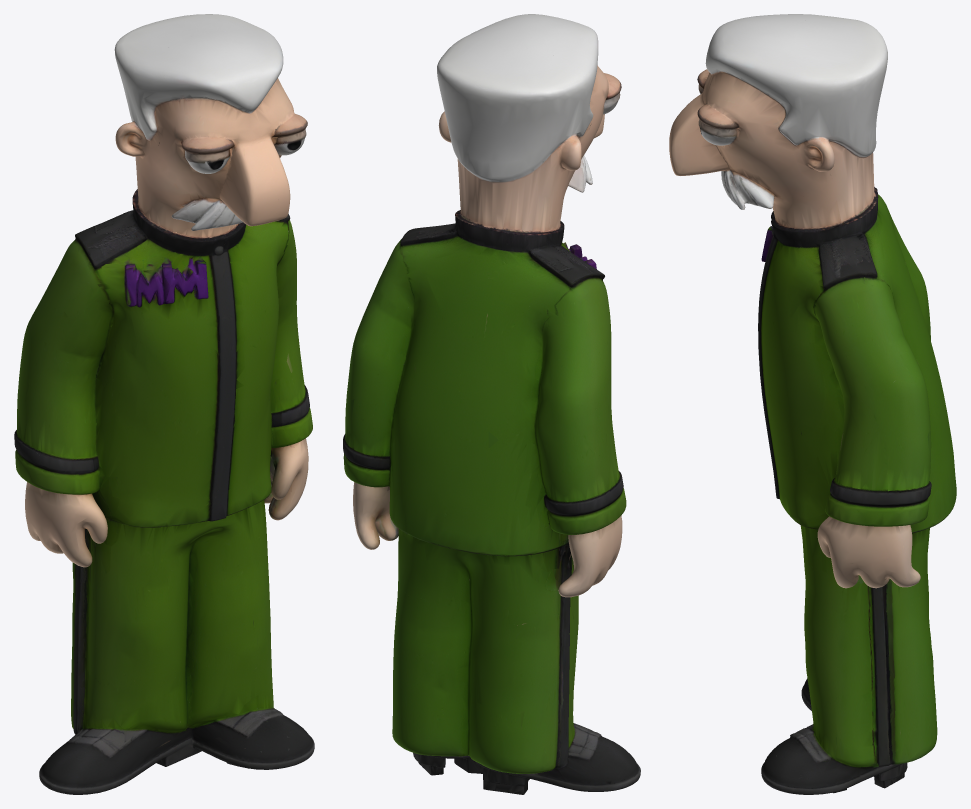
Rendered from MayorMonogram.fbx.
The picture shows the model from 3 angles, left to right: view 1: azimuth 30°, elevation 25°; view 2: azimuth 150°, elevation 25°; view 3: azimuth 270°, elevation 25°; orthographic projection. The views are drawn at different scales.
Visible parts, largest first — view 1: Mesh_0; view 2: Mesh_0; view 3: Mesh_0.
Boxes of the visible parts, x1,y1,x2,y2 form: Mesh_0: (14, 14, 314, 794); Mesh_0: (343, 14, 640, 794); Mesh_0: (669, 14, 956, 794).
Bounding box in the file's own units: 77.78 × 200 × 71.82.
1 material, 1 textured.
